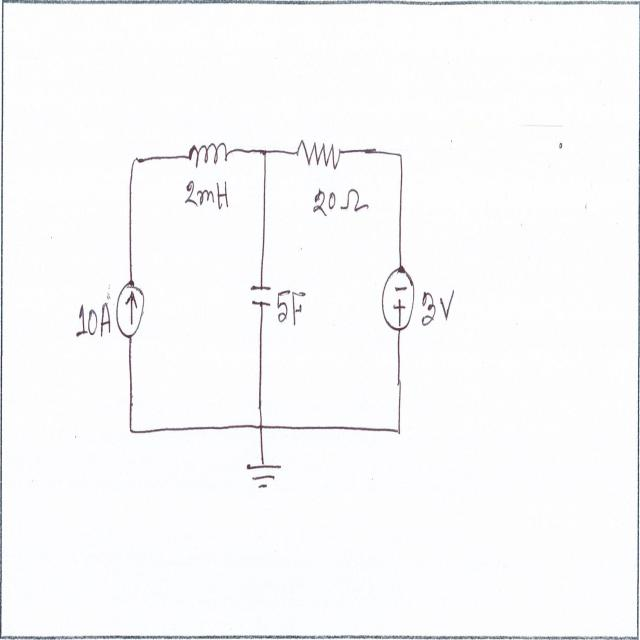capacitor: (248, 272, 272, 313)
current_source: (114, 277, 148, 341)
ground: (244, 454, 282, 496)
inductor: (185, 137, 229, 167)
resistor: (294, 138, 342, 175)
voltage_source: (379, 262, 417, 336)
